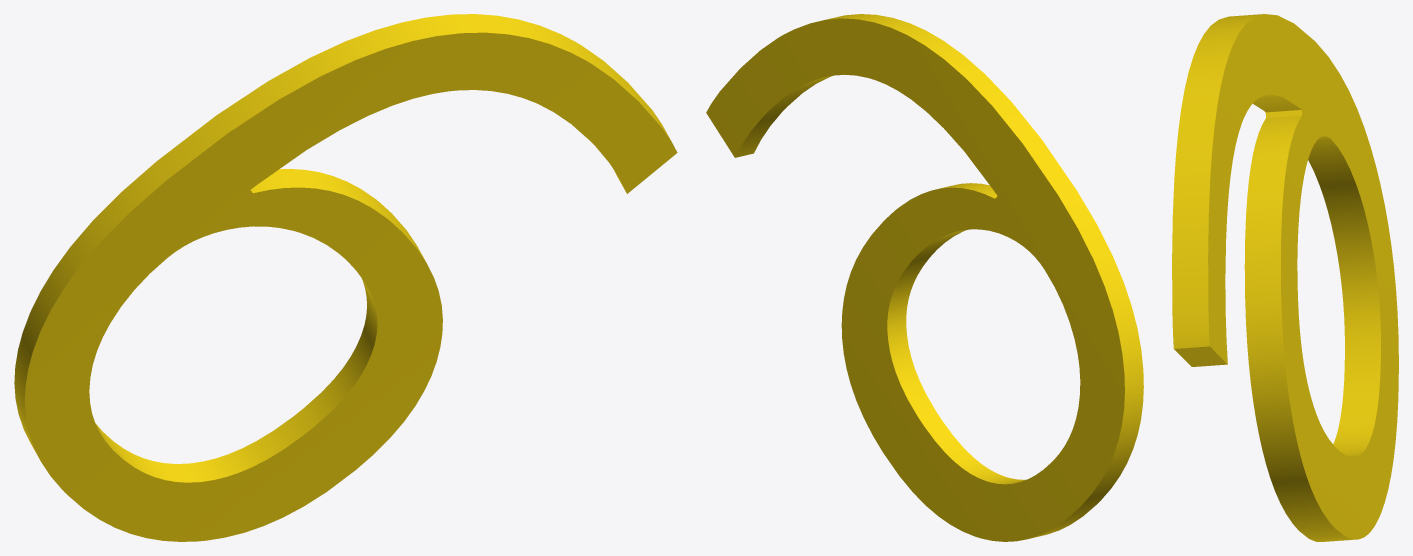
File: Number_6.gltf
The picture shows the model from 3 angles, left to right: view 1: azimuth 30°, elevation 25°; view 2: azimuth 150°, elevation 25°; view 3: azimuth 270°, elevation 25°; orthographic projection. The views are drawn at different scales.
Visible parts, largest first — view 1: Sub_1_Cell_2_1_Number_6; view 2: Sub_1_Cell_2_1_Number_6; view 3: Sub_1_Cell_2_1_Number_6.
Part boxes in pixels (left/top/right/bottom): Sub_1_Cell_2_1_Number_6: left=14, top=14, right=677, bottom=541; Sub_1_Cell_2_1_Number_6: left=706, top=14, right=1143, bottom=541; Sub_1_Cell_2_1_Number_6: left=1172, top=14, right=1398, bottom=541.
Size of the model in its own units: 0.025 by 0.0214 by 0.00771.
